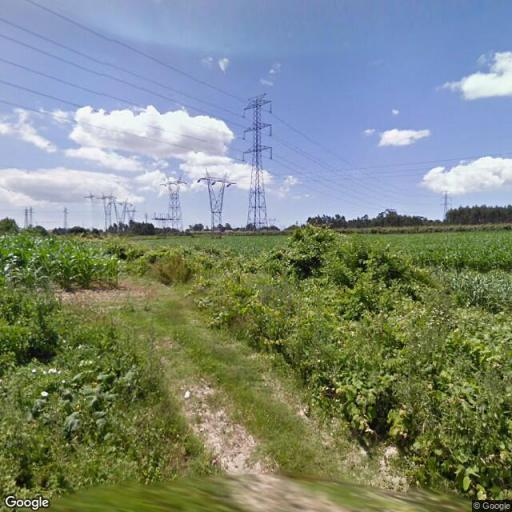ss_3: (242, 92, 276, 230), (439, 187, 454, 218)
wt_5: (198, 170, 234, 229), (162, 176, 186, 230), (114, 196, 132, 228), (102, 188, 114, 229), (126, 206, 138, 224)
